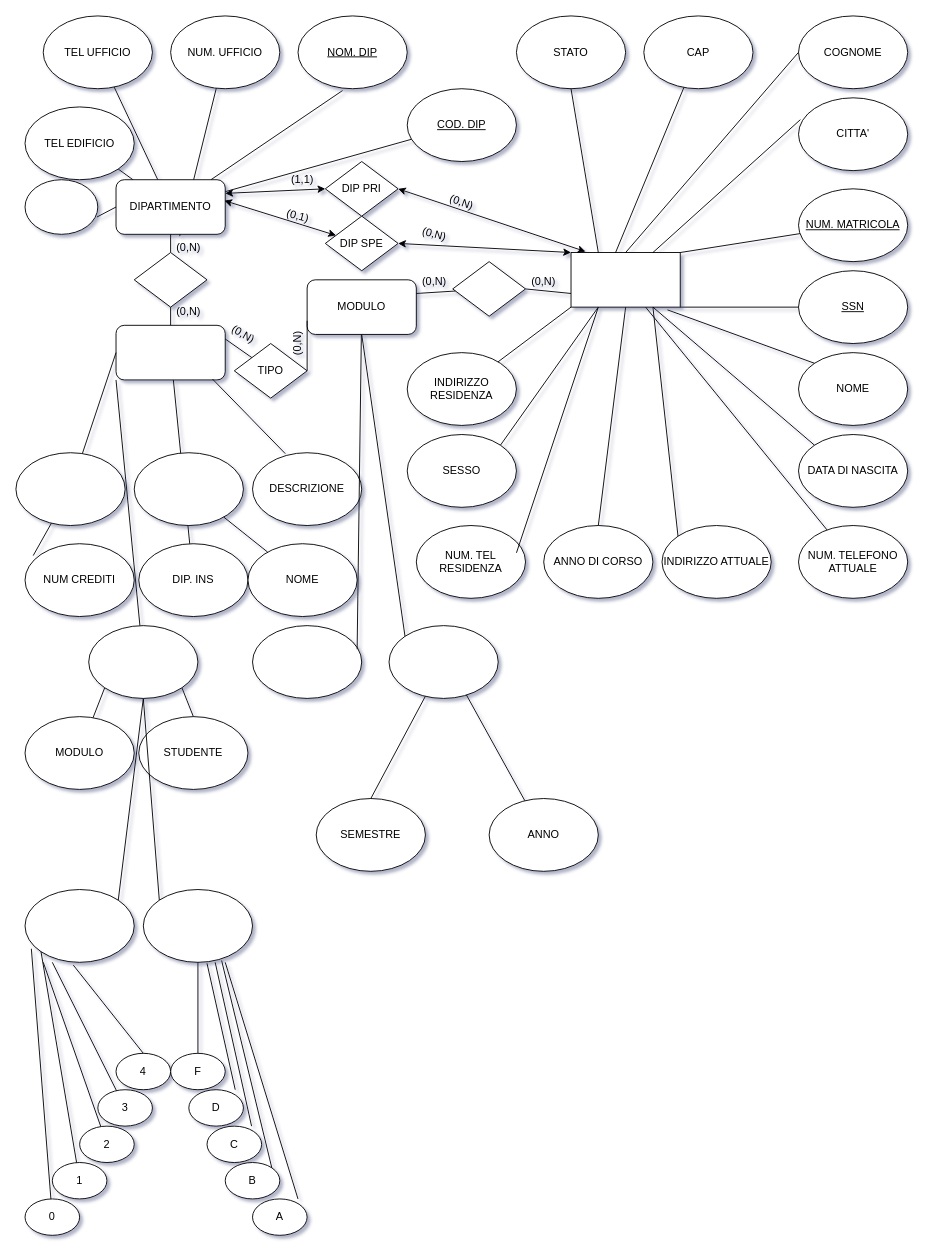
Some shapes in this 929 by 1257 pixel diagram are drawn without their labels. The centre of each missing label's shape, as x and y in pixels:
"CODICE" goes at point (188, 489).
"CODICE MOD" goes at point (443, 661).
"CORSO STUDI" goes at point (61, 206).
"DIDATTICA" goes at point (170, 279).
"DOCENTE" goes at point (307, 661).
"INSEGNAMENTO" goes at point (170, 352).
"LIVELLO" goes at point (70, 489).
"STUDENTI" goes at point (625, 279).
"STUDIO" goes at point (489, 288).
"VOTAZIONE" goes at point (143, 661).
"VOTO CIFRE" goes at point (79, 925).
"VOTO LETTERE" goes at point (197, 925).
